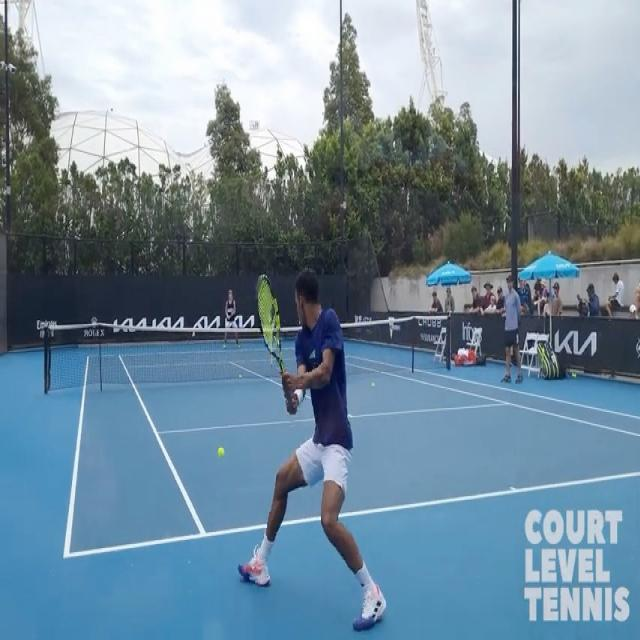backhand-ready: (237, 266, 391, 632)
